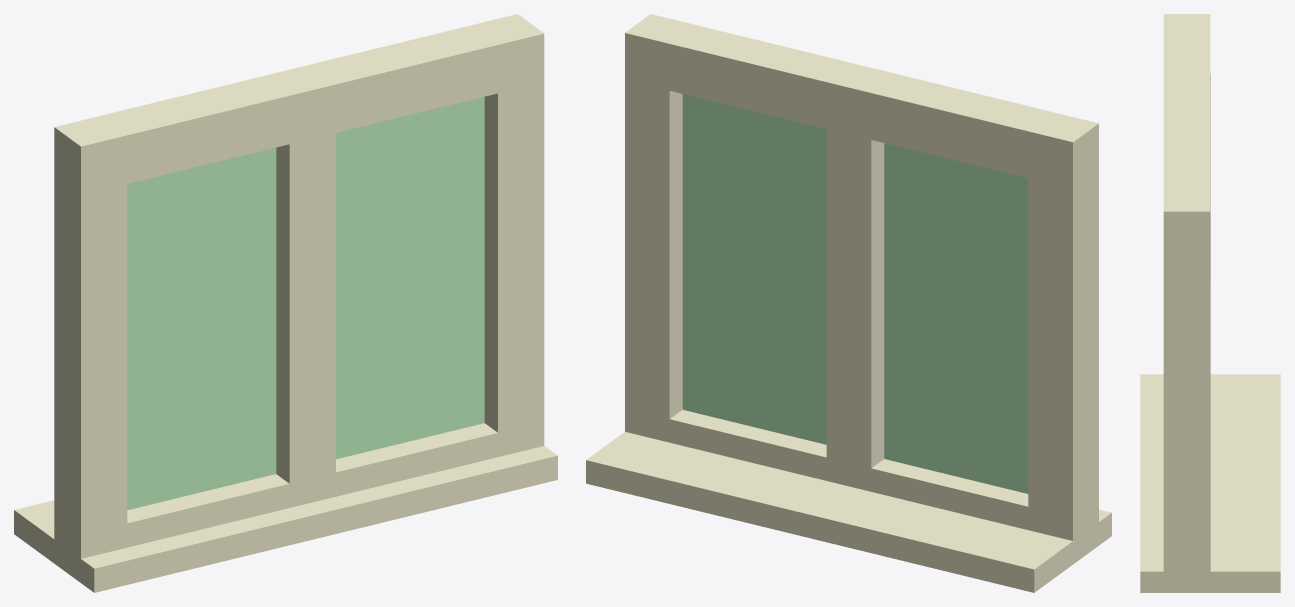
Rendered from Window_Small.glb.
3 views of the same model, side by side, from view 1: azimuth 30°, elevation 25°; view 2: azimuth 150°, elevation 25°; view 3: azimuth 270°, elevation 25° (orthographic). The views are drawn at different scales.
Visible parts, largest first — view 1: Window Small; view 2: Window Small; view 3: Window Small.
Part boxes in pixels (x1,y1,x2,y2): Window Small: (14,14,557,592); Window Small: (586,14,1111,592); Window Small: (1140,14,1280,592).
Size of the model in its own units: 1 by 0.9 by 0.3.
